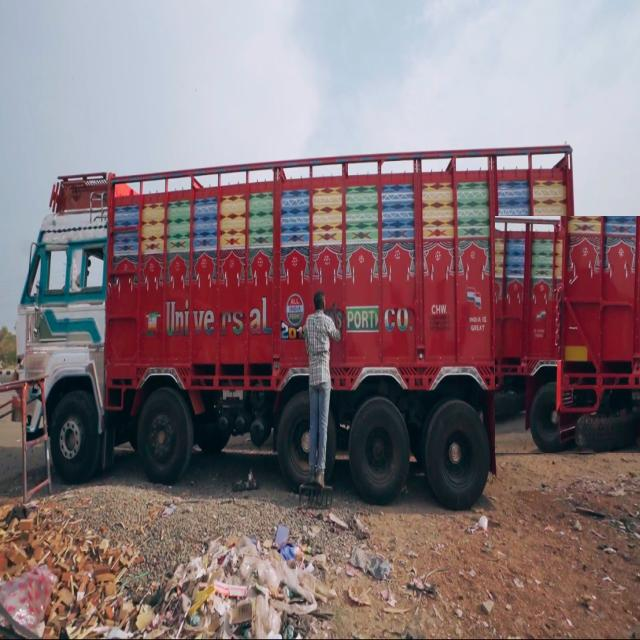truck: (18, 146, 578, 508), (495, 217, 640, 453)
